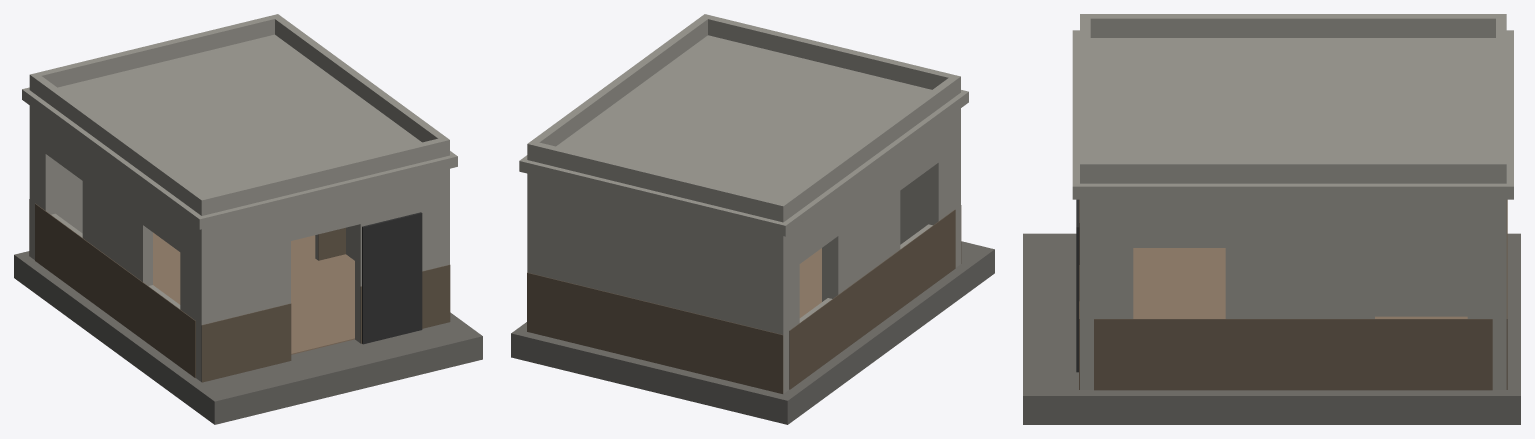
Rendered from casa_radio_a.glb.
3 renders of one model, left to right at view 1: azimuth 30°, elevation 25°; view 2: azimuth 150°, elevation 25°; view 3: azimuth 270°, elevation 25°, orthographic. The views are drawn at different scales.
Parts seen in each view (by area): view 1: casa_radio_a; view 2: casa_radio_a; view 3: casa_radio_a.
Boxes of the visible parts, x1,y1,x2,y2 form: casa_radio_a: (14, 14, 482, 424); casa_radio_a: (511, 14, 994, 424); casa_radio_a: (1023, 14, 1520, 424).
Bounding box in the file's own units: 5.4 × 3.95 × 7.
